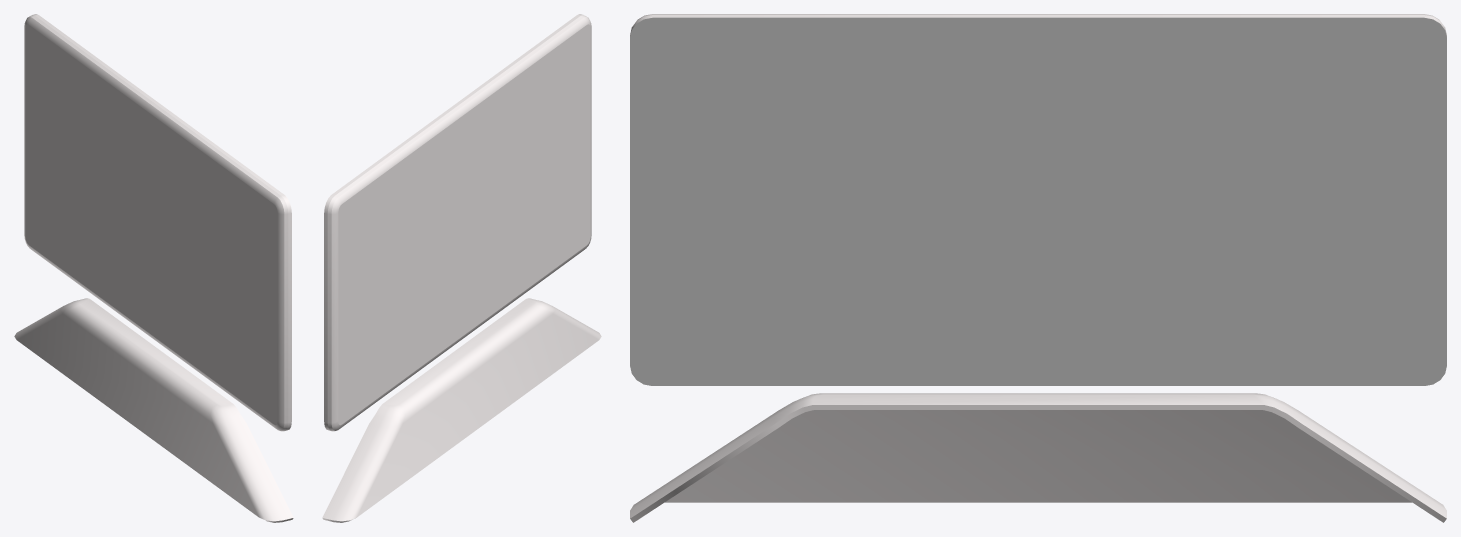
3 renders of one model, left to right at view 1: azimuth 30°, elevation 25°; view 2: azimuth 150°, elevation 25°; view 3: azimuth 270°, elevation 25°, orthographic. The views are drawn at different scales.
Parts seen in each view (by area): view 1: TV_Big; view 2: TV_Big; view 3: TV_Big.
Part boxes in pixels (left/top/right/bottom): TV_Big: left=14, top=14, right=293, bottom=522; TV_Big: left=322, top=14, right=601, bottom=522; TV_Big: left=630, top=14, right=1446, bottom=522.
Size of the model in its own units: 40.69 by 484 by 712.
